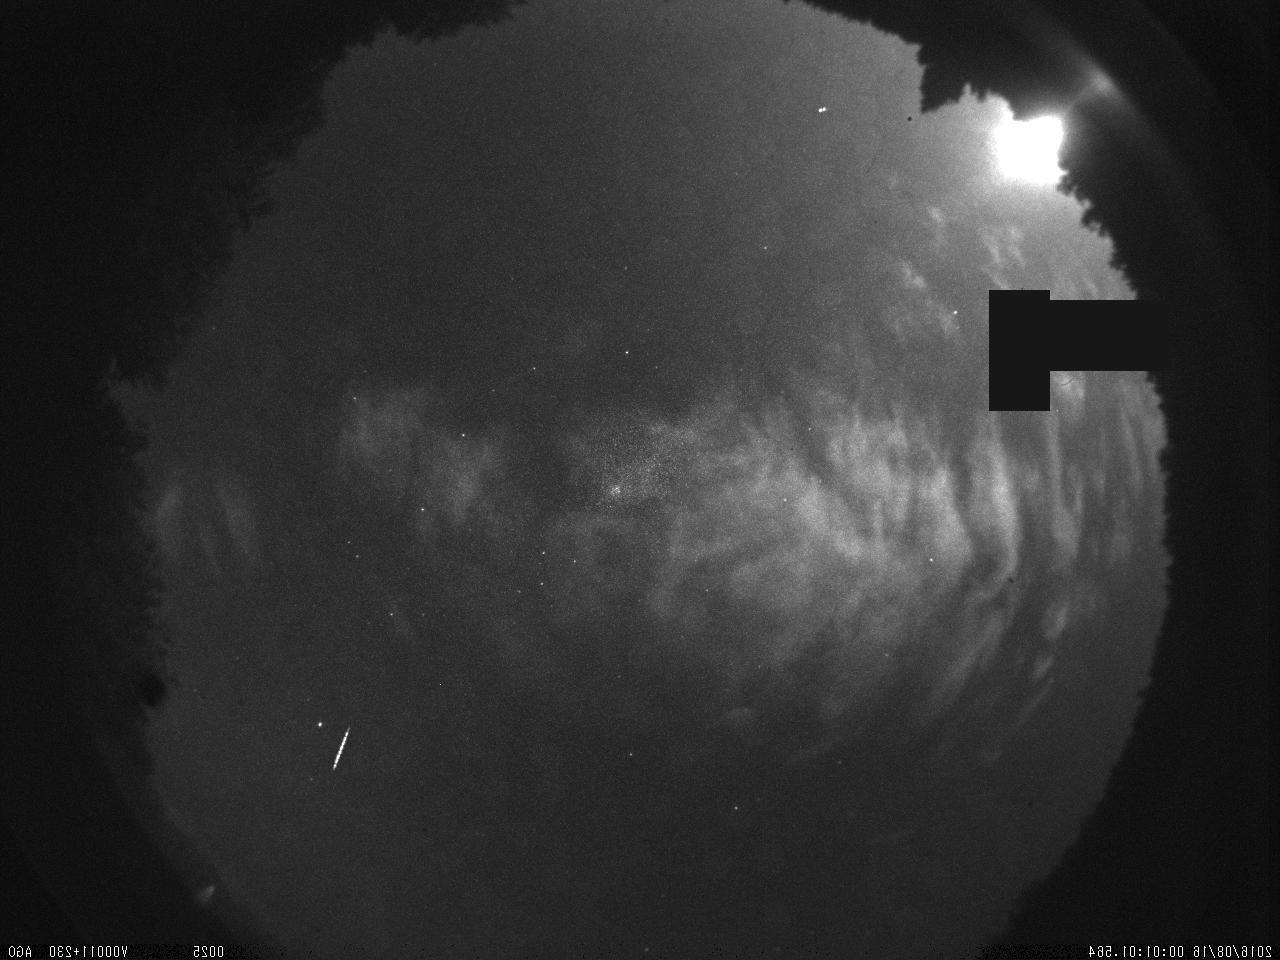meteor: (319, 715, 369, 790)
